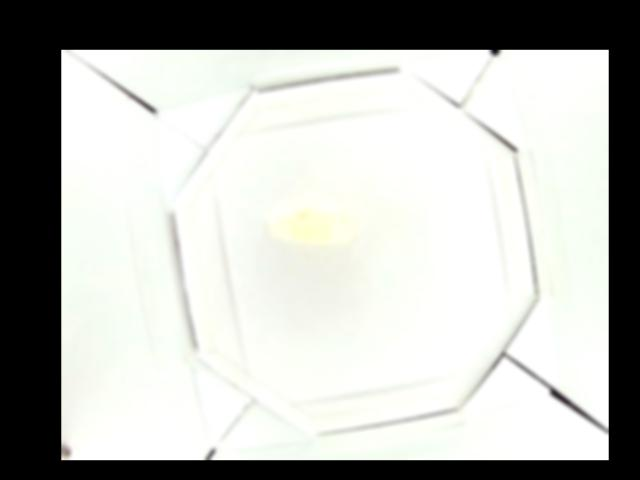Mooli: (265, 203, 353, 245)
